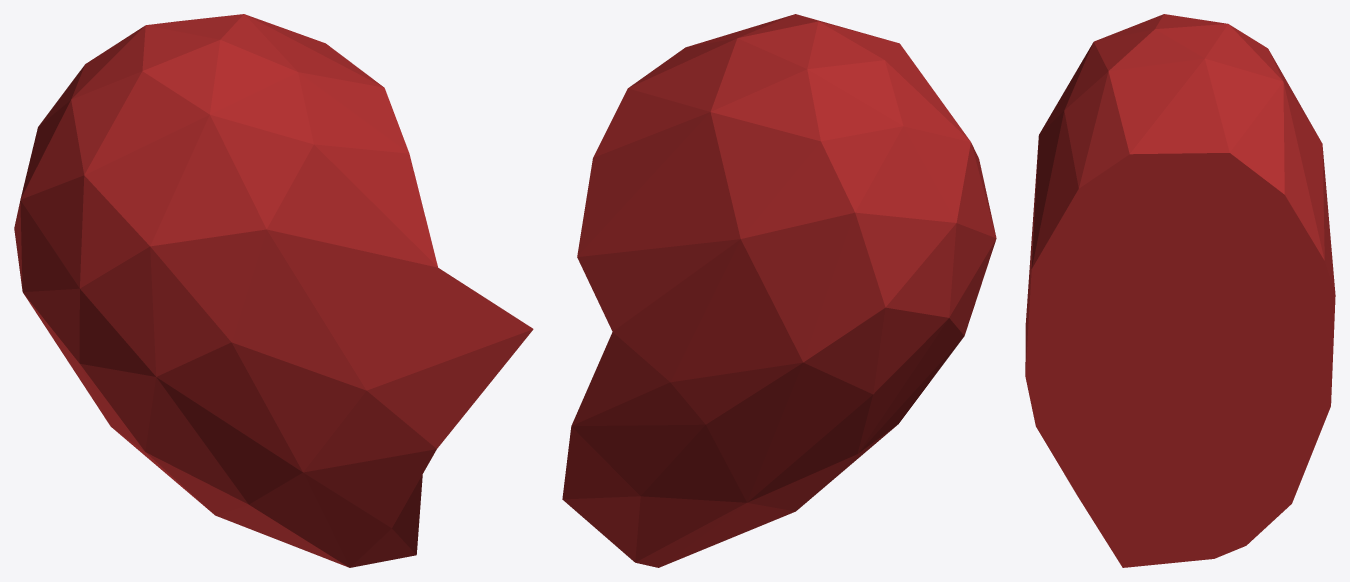
File: heartfix_1.fbx
3 views of the same model, side by side, from view 1: azimuth 30°, elevation 25°; view 2: azimuth 150°, elevation 25°; view 3: azimuth 270°, elevation 25° (orthographic). The views are drawn at different scales.
Parts seen in each view (by area): view 1: polySurface2; view 2: polySurface2; view 3: polySurface2.
Part boxes in pixels (x1,y1,x2,y2): polySurface2: [14, 14, 533, 567]; polySurface2: [562, 14, 996, 567]; polySurface2: [1025, 14, 1335, 567].
Bounding box in the file's own units: 5.12 × 6.72 × 3.96.
